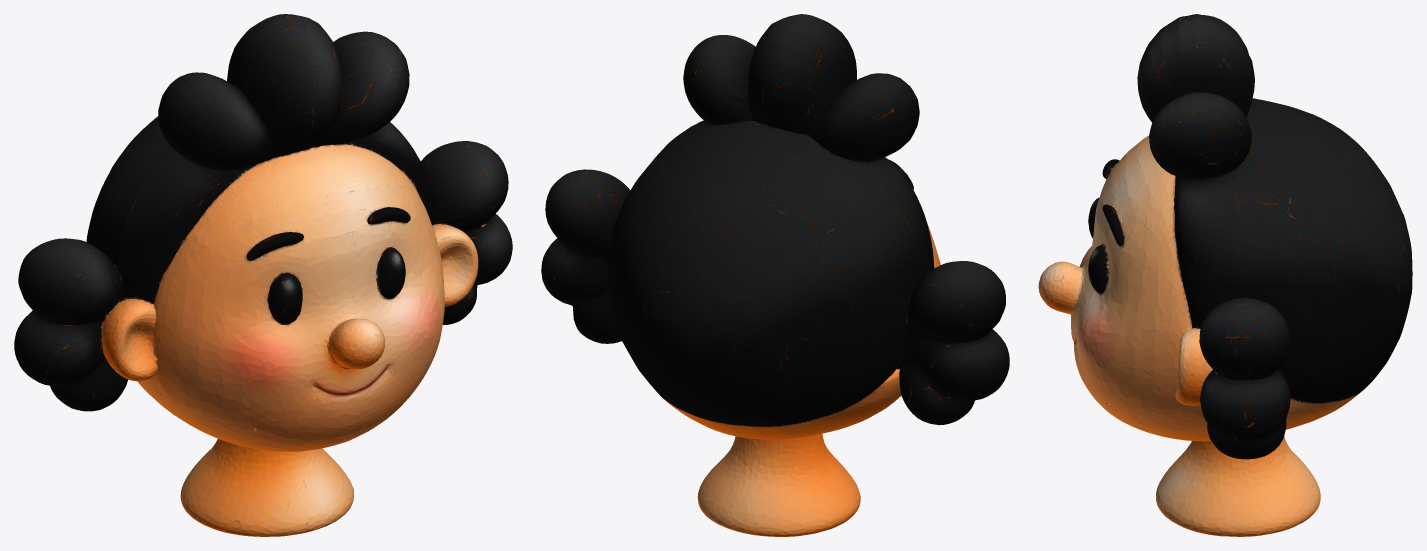
File: AnimePistol_Textured_00089_.glb
3 views of the same model, side by side, from view 1: azimuth 30°, elevation 25°; view 2: azimuth 150°, elevation 25°; view 3: azimuth 270°, elevation 25° (orthographic). The views are drawn at different scales.
Visible parts, largest first — view 1: world; view 2: world; view 3: world.
Part boxes in pixels (box(x1,y1,x2,y2)): world: box(14, 14, 512, 536); world: box(541, 14, 1009, 536); world: box(1038, 14, 1412, 536).
Size of the model in its own units: 1 by 0.994 by 0.6943.
Materials: 1 (1 with a texture image).
